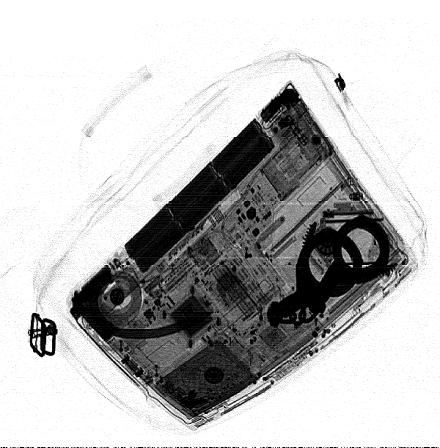HandCuffs: (267, 215, 401, 329)
